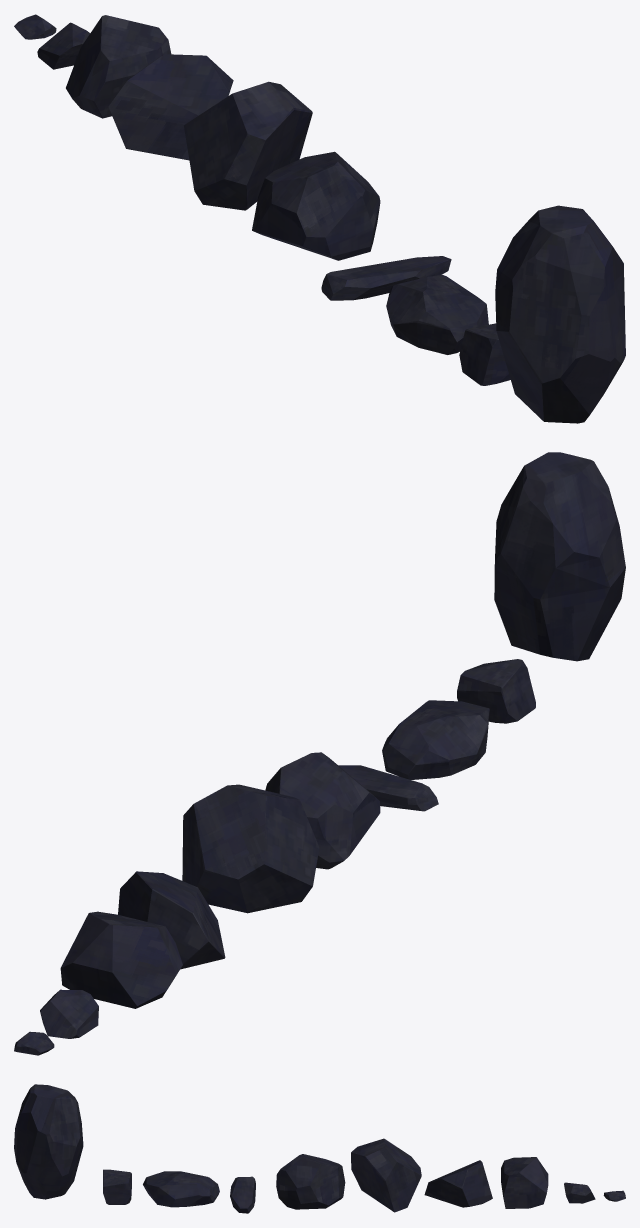
The model's file is rocks_normal.fbx.
The picture shows the model from 3 angles, top to bottom: view 1: azimuth 30°, elevation 25°; view 2: azimuth 150°, elevation 25°; view 3: azimuth 270°, elevation 25°; orthographic projection. The views are drawn at different scales.
Visible parts, largest first — view 1: Cube.062, Cube.054, Cube.004, Cube.055, Cube.056, Cube.060, Cube.059, Cube.061, Cube.057, Cube.058; view 2: Cube.062, Cube.054, Cube.056, Cube.004, Cube.060, Cube.055, Cube.061, Cube.059, Cube.057; view 3: Cube.062, Cube.054, Cube.004, Cube.060, Cube.056, Cube.055, Cube.061, Cube.059, Cube.057, Cube.058.
Part boxes in pixels (box(x1,y1,x2,y2)): Cube.062: box(495, 205, 625, 423); Cube.054: box(184, 81, 312, 210); Cube.004: box(252, 151, 380, 260); Cube.055: box(108, 54, 233, 160); Cube.056: box(66, 15, 171, 118); Cube.060: box(386, 275, 488, 354); Cube.059: box(321, 256, 451, 300); Cube.061: box(459, 323, 510, 385); Cube.057: box(37, 22, 89, 69); Cube.058: box(14, 14, 56, 39); Cube.062: box(494, 452, 625, 661); Cube.054: box(182, 784, 319, 913); Cube.056: box(60, 911, 182, 1008); Cube.004: box(265, 752, 380, 869); Cube.060: box(382, 700, 489, 779); Cube.055: box(118, 871, 225, 969); Cube.061: box(457, 659, 535, 723); Cube.059: box(338, 765, 438, 811); Cube.057: box(40, 989, 98, 1038); Cube.062: box(14, 1084, 83, 1199); Cube.054: box(351, 1138, 421, 1212); Cube.004: box(276, 1154, 345, 1209); Cube.060: box(143, 1171, 219, 1207); Cube.056: box(501, 1157, 548, 1208); Cube.055: box(424, 1160, 492, 1207); Cube.061: box(103, 1169, 131, 1204); Cube.059: box(230, 1176, 255, 1213); Cube.057: box(564, 1182, 595, 1203); Cube.058: box(603, 1190, 625, 1201).
Bounding box in the file's own units: 908 × 1380 × 6980.
